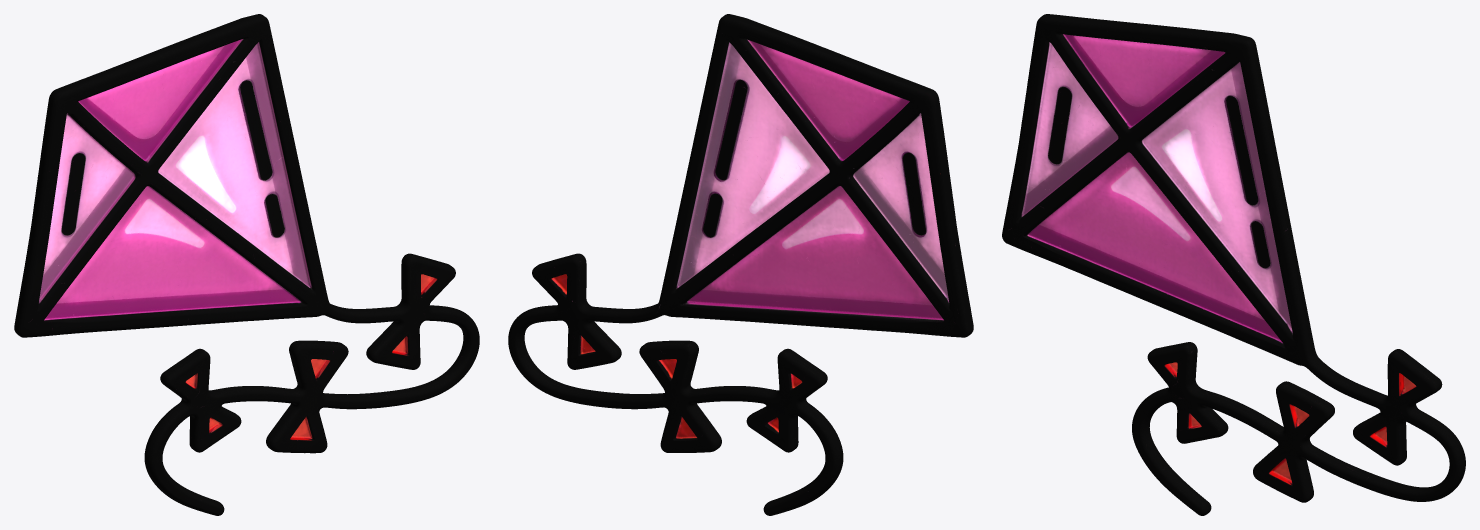
File: Elemento_juego.glb
3 views of the same model, side by side, from view 1: azimuth 30°, elevation 25°; view 2: azimuth 150°, elevation 25°; view 3: azimuth 330°, elevation 25° (orthographic).
Parts seen in each view (by area): view 1: Mesh_0.001; view 2: Mesh_0.001; view 3: Mesh_0.001.
Boxes of the visible parts, left/top/right/bottom form: Mesh_0.001: left=14, top=14, right=479, bottom=515; Mesh_0.001: left=508, top=14, right=973, bottom=515; Mesh_0.001: left=1002, top=14, right=1465, bottom=515.
Size of the model in its own units: 2.97 by 3 by 0.0972.
Materials: 1 (1 with a texture image).
